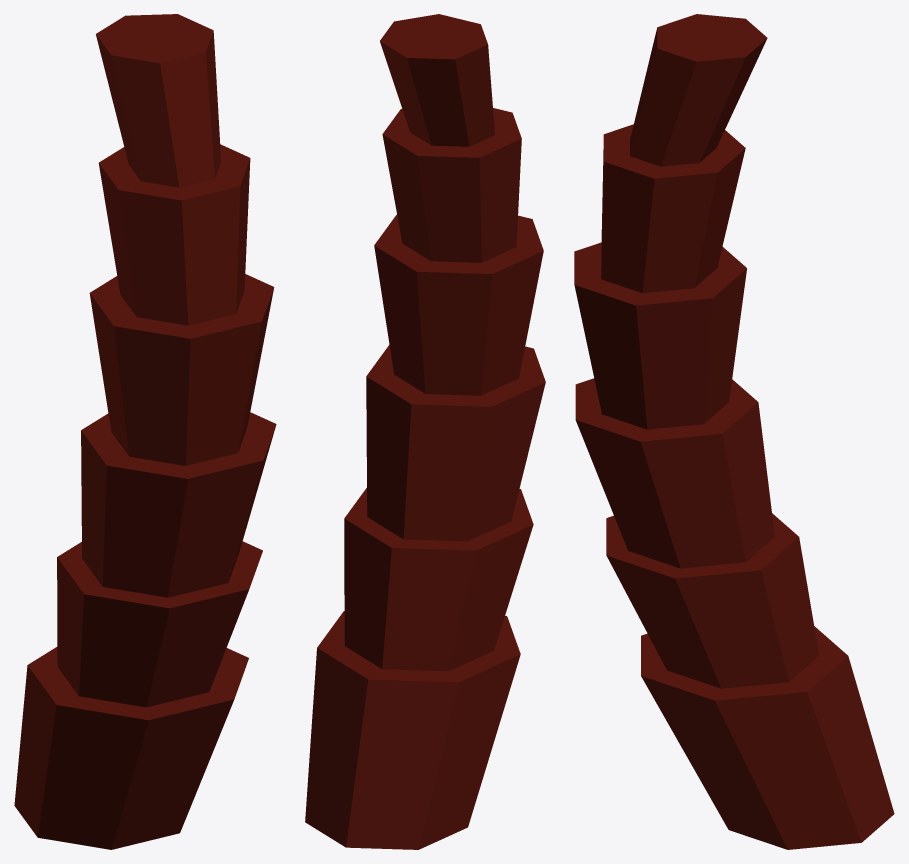
3 renders of one model, left to right at view 1: azimuth 30°, elevation 25°; view 2: azimuth 150°, elevation 25°; view 3: azimuth 270°, elevation 25°, orthographic. The views are drawn at different scales.
Visible parts, largest first — view 1: Tree.001; view 2: Tree.001; view 3: Tree.001.
Boxes of the visible parts, x1,y1,x2,y2 form: Tree.001: (14,14,276,849); Tree.001: (305,14,545,849); Tree.001: (574,14,894,849).
Size of the model in its own units: 2.44 by 9.81 by 3.67.
